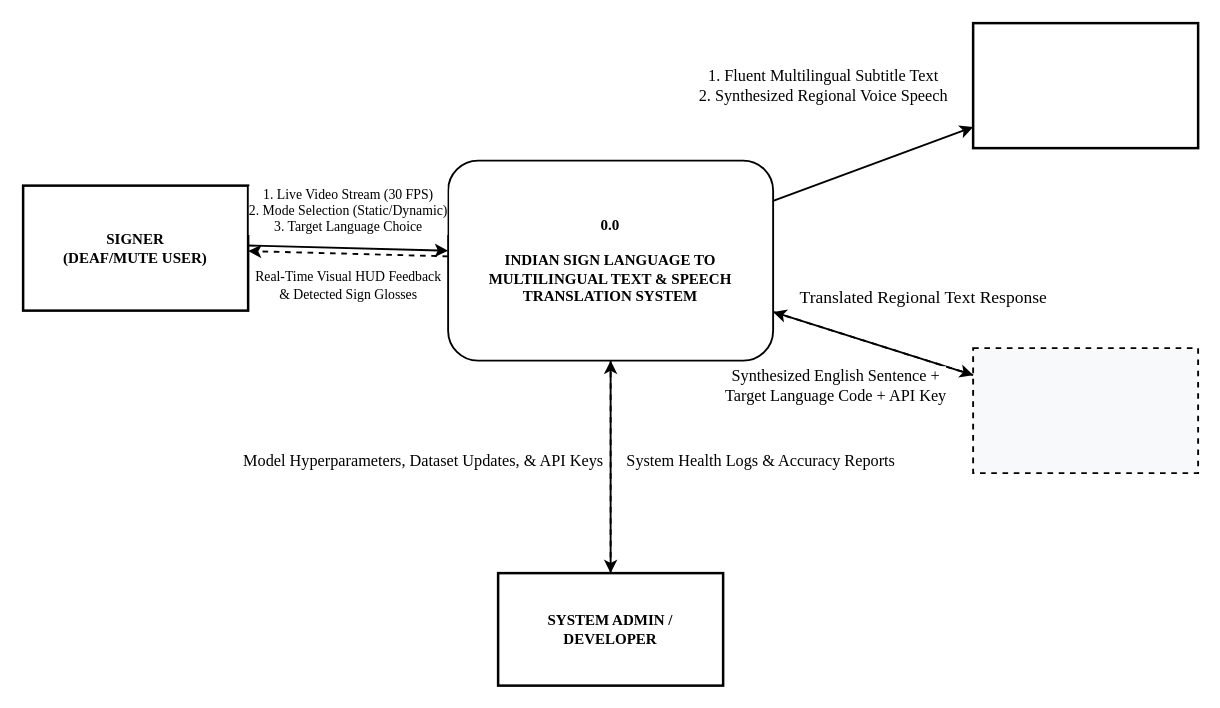
The diagram is 1220 pixels wide and 708 high, and some of its shapes have lost their labels. The shapes that lost their labels are listed below. From the top down, each one's box as (x1, y1, x2, y2) in pixels, then its label:
(971, 21, 1199, 149): RECIPIENT (HEARING AUDIENCE)
(972, 347, 1198, 474): GOOGLE CLOUD TRANSLATION API
